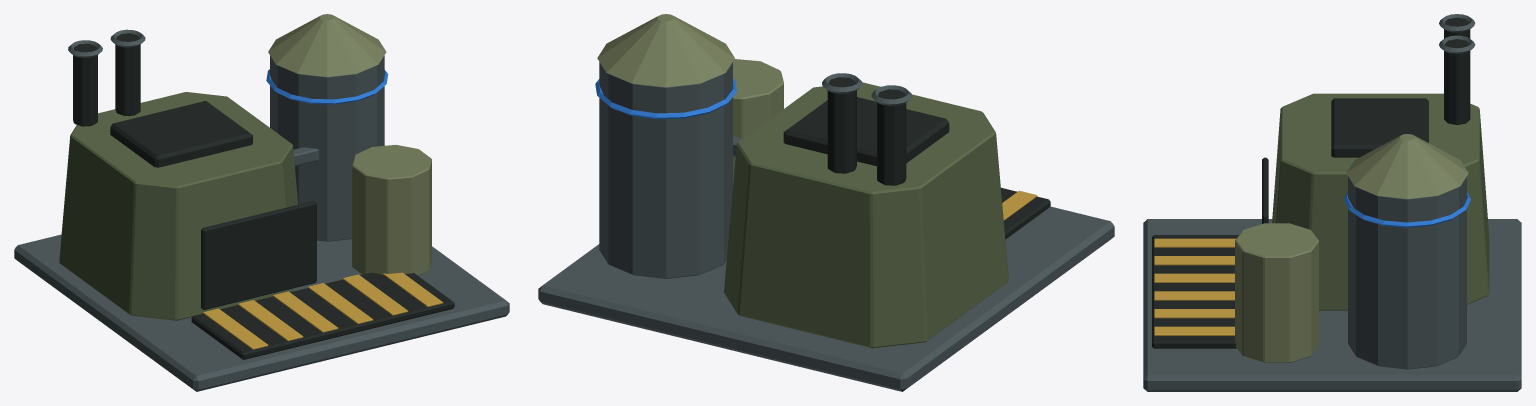
File: h_refinery.glb
3 renders of one model, left to right at view 1: azimuth 30°, elevation 25°; view 2: azimuth 150°, elevation 25°; view 3: azimuth 270°, elevation 25°, orthographic. The views are drawn at different scales.
Parts seen in each view (by area): view 1: Refinery; view 2: Refinery; view 3: Refinery.
Part boxes in pixels (left/top/right/bottom): Refinery: left=14, top=14, right=509, bottom=391; Refinery: left=538, top=14, right=1114, bottom=391; Refinery: left=1143, top=14, right=1521, bottom=391.
Size of the model in its own units: 5.8 by 3.97 by 5.8.
